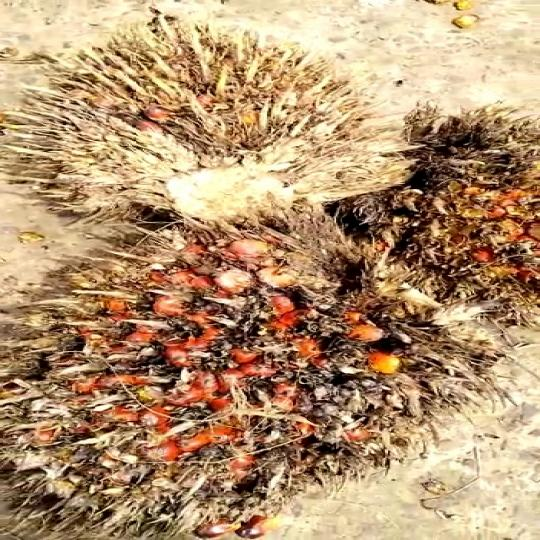terlalu masak: (0, 223, 426, 509), (11, 28, 391, 233)
